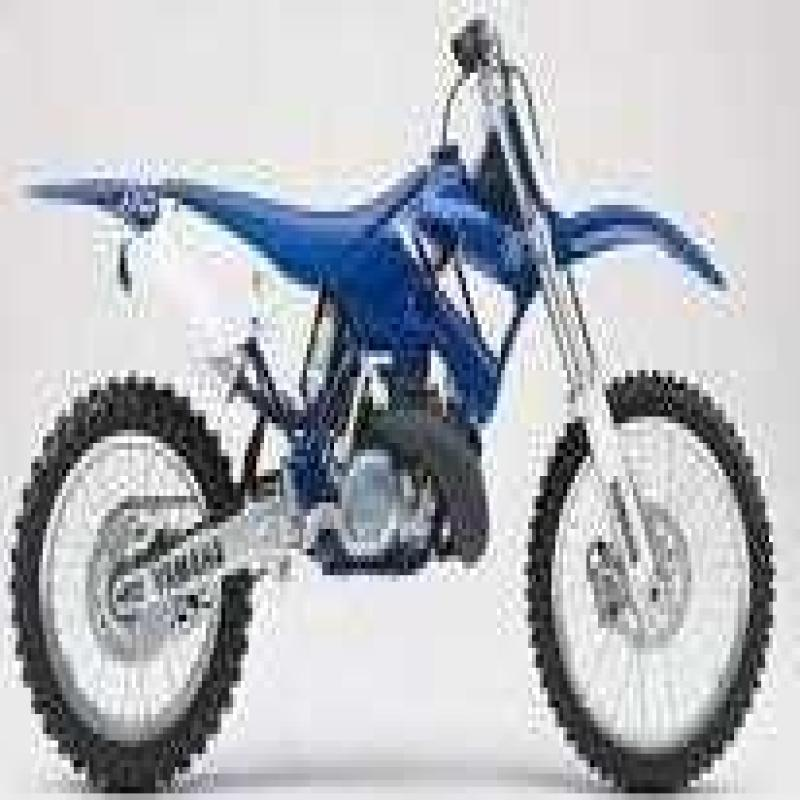bike: (35, 33, 800, 800)
